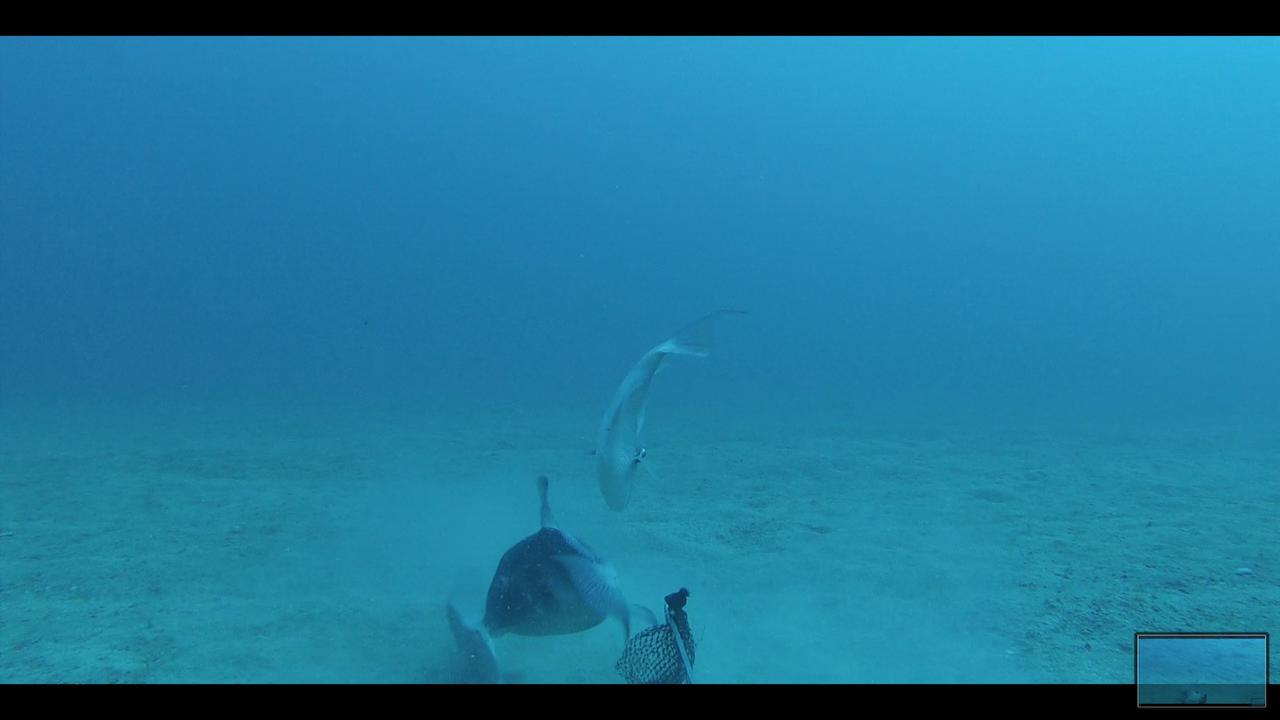balistes: (579, 300, 747, 512), (478, 468, 658, 644)
